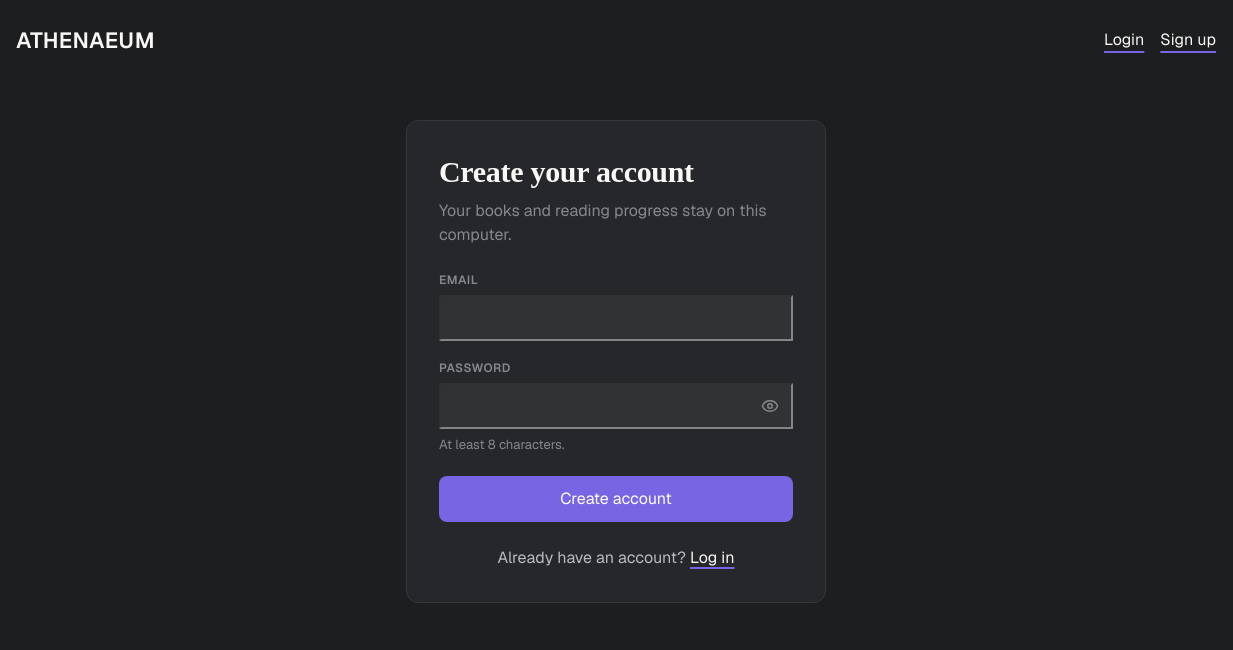
Test: signup › creates the account and lands on the shelf
In the field labelled "Email": coordinates (616, 318) [439, 294, 793, 340], type "reader@example.com"
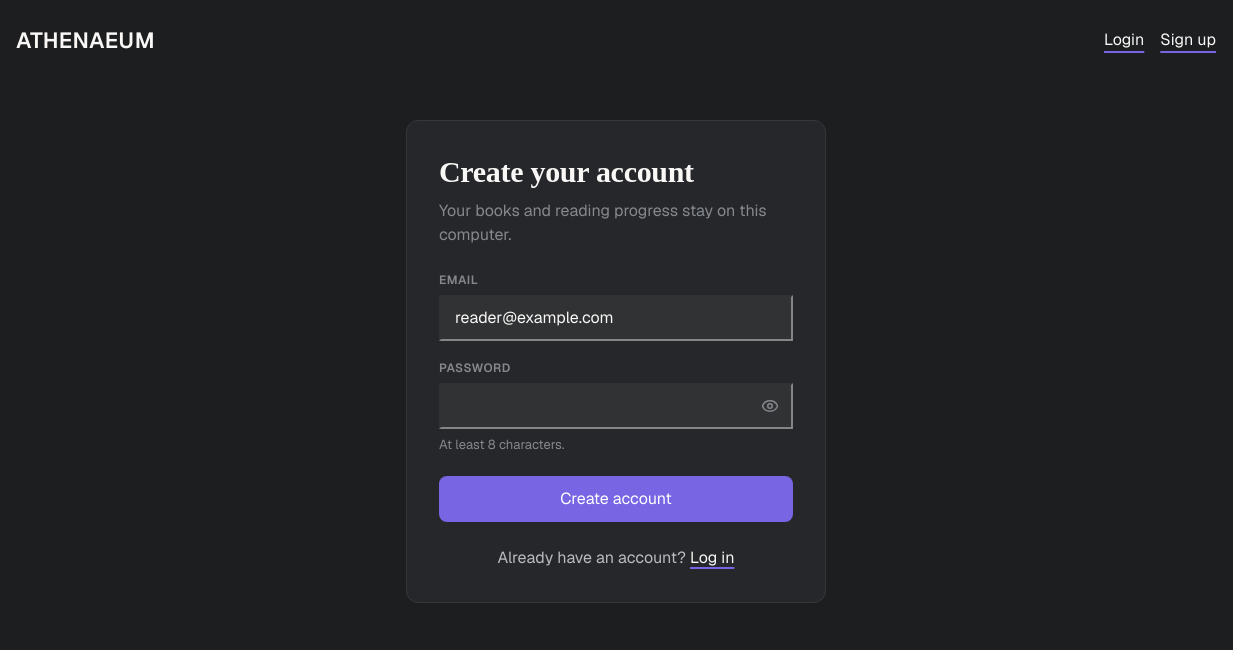
In the password field labelled "Password": coordinates (616, 406) [439, 382, 793, 428], type "long enough password"
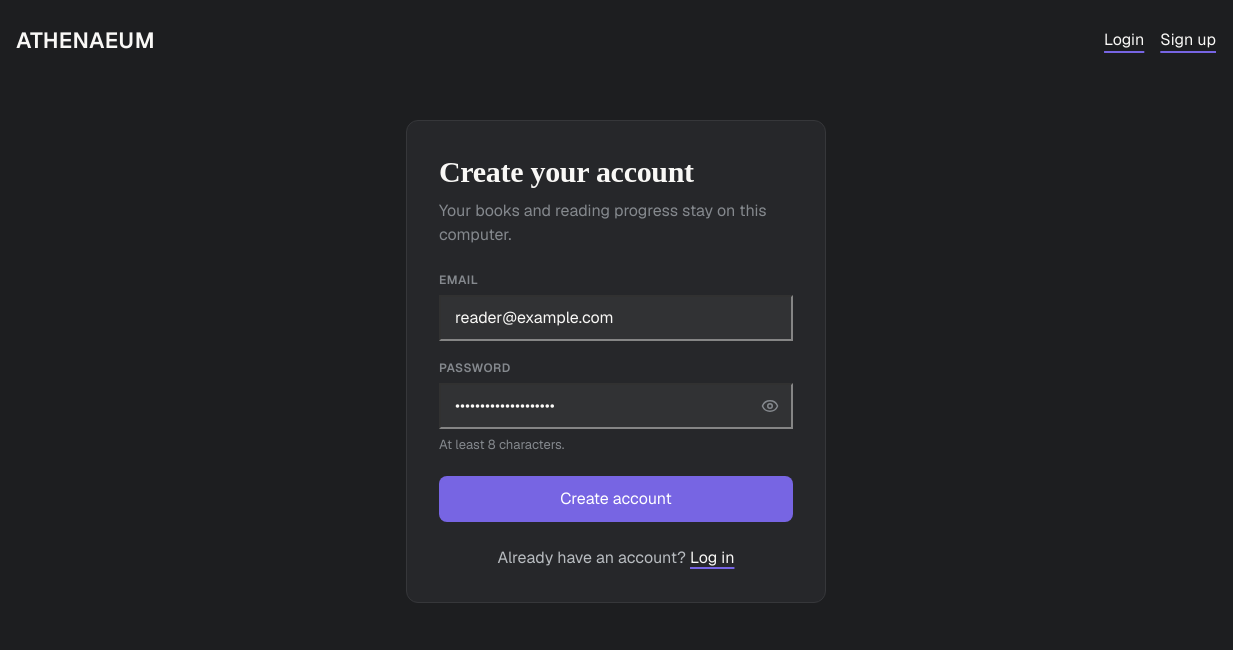
Click the button "Create account": coordinates (616, 499) [439, 476, 793, 522]
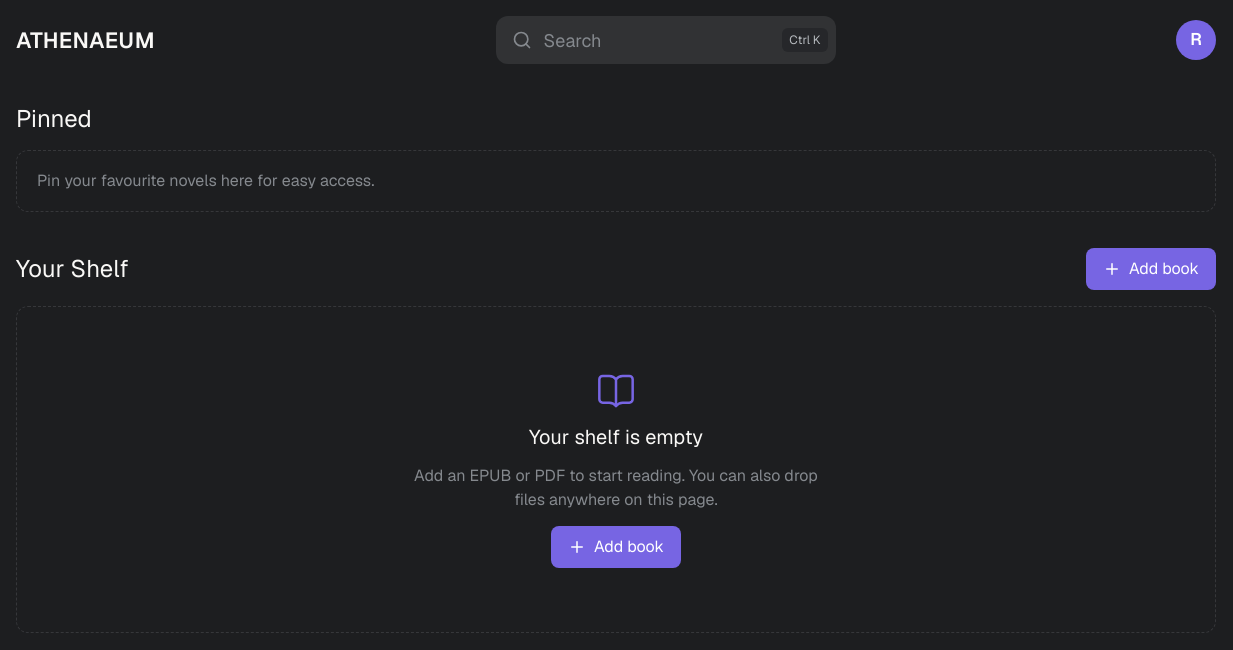
Expected: the heading "Your shelf is empty" is shown, [529, 425, 703, 450]
